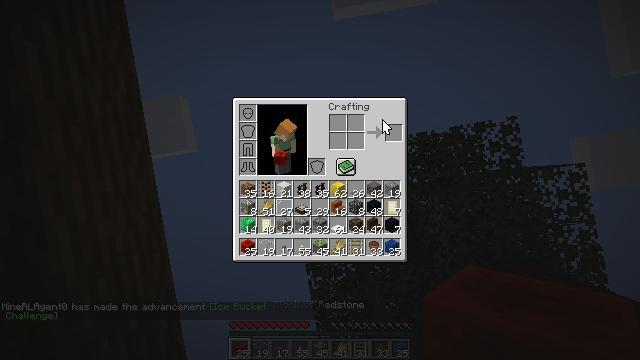cursor: (382, 119, 392, 135)
